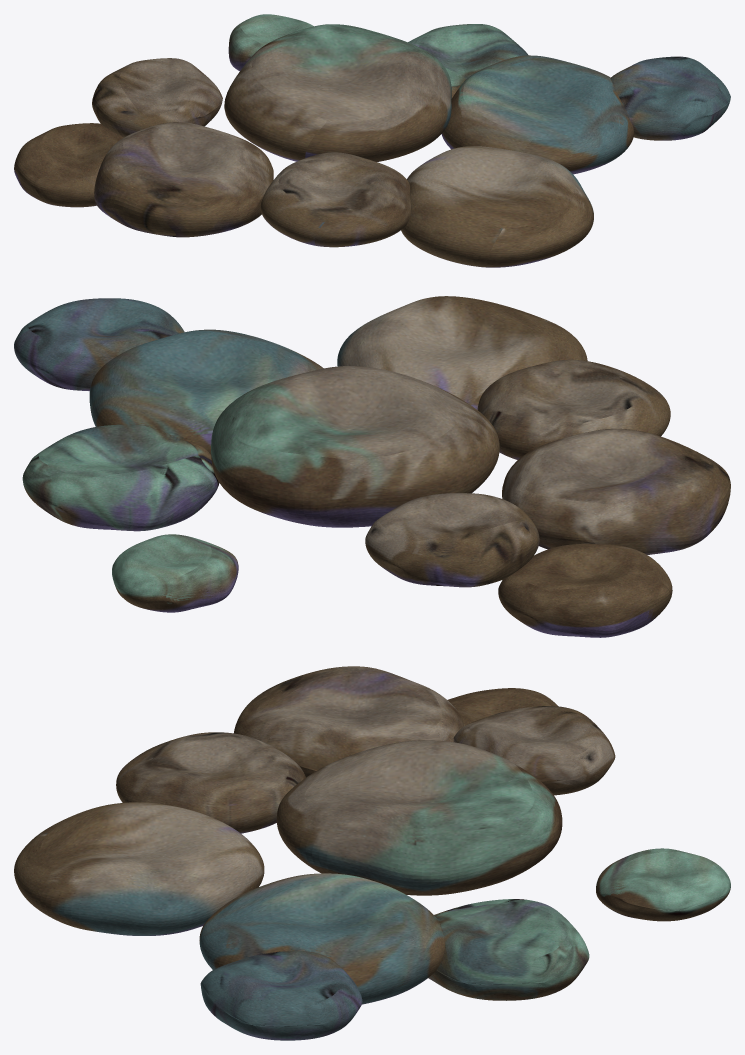
Rendered from Path mesh.fbx.
3 renders of one model, top to bottom at view 1: azimuth 30°, elevation 25°; view 2: azimuth 150°, elevation 25°; view 3: azimuth 270°, elevation 25°, orthographic. The views are drawn at different scales.
Visible parts, largest first — view 1: Cube; view 2: Cube; view 3: Cube.
Boxes of the visible parts, x1,y1,x2,y2 form: Cube: (14, 14, 730, 267); Cube: (14, 296, 730, 637); Cube: (14, 666, 730, 1040).
Size of the model in its own units: 68.56 by 10.39 by 60.4.
